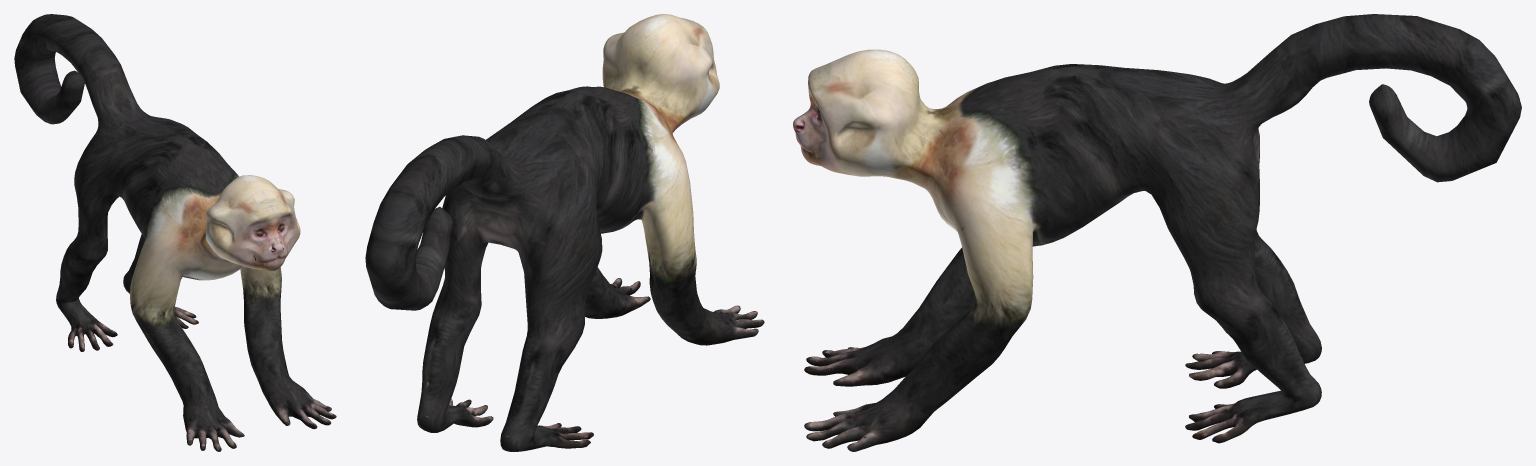
The model's file is Capuchin.fbx.
The picture shows the model from 3 angles, left to right: view 1: azimuth 30°, elevation 25°; view 2: azimuth 150°, elevation 25°; view 3: azimuth 270°, elevation 25°; orthographic projection. The views are drawn at different scales.
Visible parts, largest first — view 1: 12958_Spider_Monkey_v1_l2; view 2: 12958_Spider_Monkey_v1_l2; view 3: 12958_Spider_Monkey_v1_l2.
Boxes of the visible parts, x1=… form: 12958_Spider_Monkey_v1_l2: x1=14, y1=14, x2=336, y2=451; 12958_Spider_Monkey_v1_l2: x1=365, y1=14, x2=764, y2=451; 12958_Spider_Monkey_v1_l2: x1=793, y1=14, x2=1521, y2=451.
Bounding box in the file's own units: 215 × 381 × 645.
Materials: 1 (1 with a texture image).
